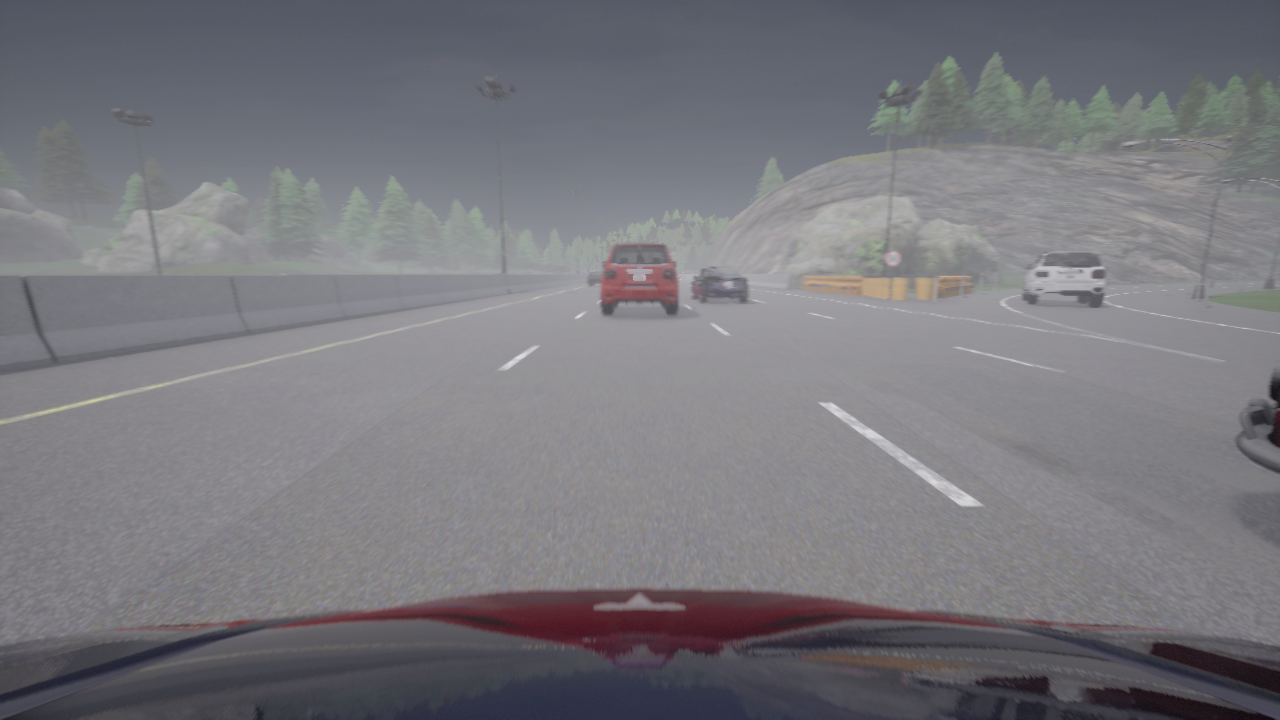cyclist: (0, 588, 1279, 719), (602, 243, 678, 315), (1237, 360, 1279, 472), (1024, 250, 1106, 306), (692, 267, 747, 302), (588, 272, 602, 285)
